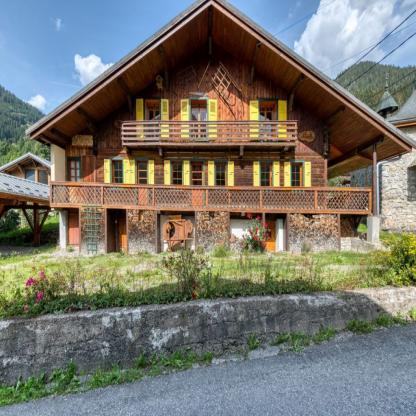Balcony: (50, 181, 372, 214), (121, 121, 297, 146)
Building Outline: (26, 0, 416, 256)
Dont: (238, 213, 271, 253), (160, 215, 194, 253)
Door: (191, 161, 204, 207), (82, 156, 94, 205), (115, 212, 127, 255), (137, 160, 147, 205), (68, 211, 79, 247), (265, 213, 275, 251)
Door Hole: (106, 208, 127, 255), (265, 213, 287, 251)
Facade: (59, 106, 377, 256)
Floor: (65, 146, 327, 207)
Floor Slab: (50, 203, 371, 214), (65, 146, 327, 152)
Ground Floor: (59, 208, 371, 256)
Pillar: (373, 144, 377, 217)
Roof: (26, 0, 416, 180)
Top Floor: (65, 38, 327, 146)
Window: (191, 104, 207, 140), (260, 106, 274, 141), (148, 104, 160, 140), (173, 164, 182, 190), (261, 165, 270, 190), (292, 164, 300, 190), (217, 165, 225, 191), (114, 162, 122, 187), (71, 160, 79, 184)
Window Hole: (191, 99, 207, 140), (260, 101, 276, 141), (146, 100, 160, 140), (216, 162, 227, 191), (261, 162, 272, 190), (171, 161, 182, 189), (112, 160, 123, 187), (69, 158, 79, 184)
Window Outline: (292, 163, 303, 190)
